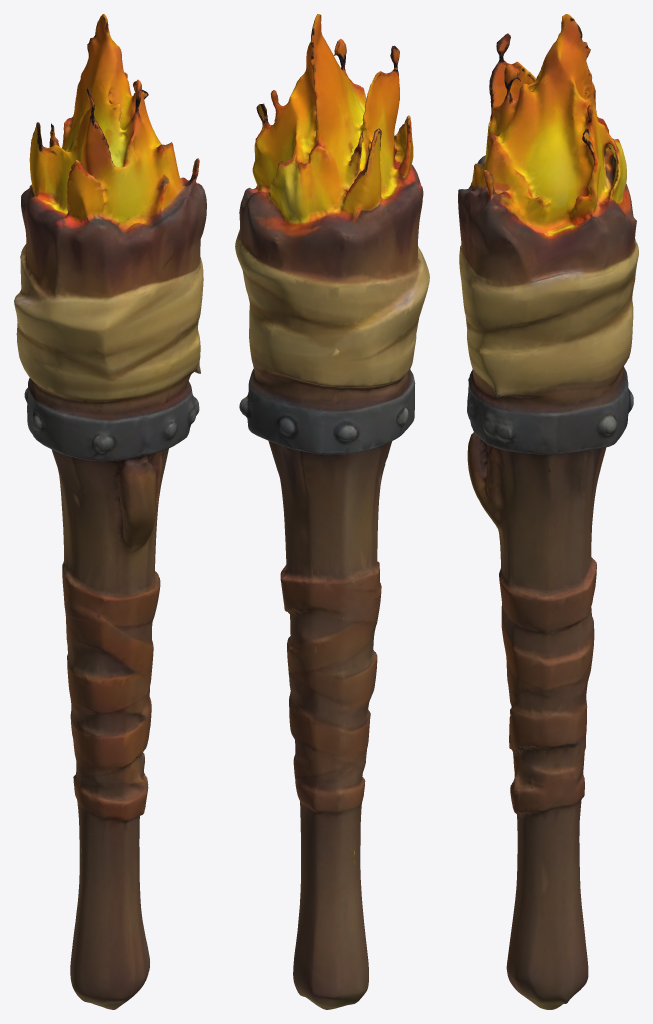
Rendered from Meshy_AI_Blazing_Torch_texture.glb.
3 views of the same model, side by side, from view 1: azimuth 30°, elevation 25°; view 2: azimuth 150°, elevation 25°; view 3: azimuth 270°, elevation 25° (orthographic).
Size of the model in its own units: 0.3543 by 2 by 0.3294.
1 material, 1 textured.
